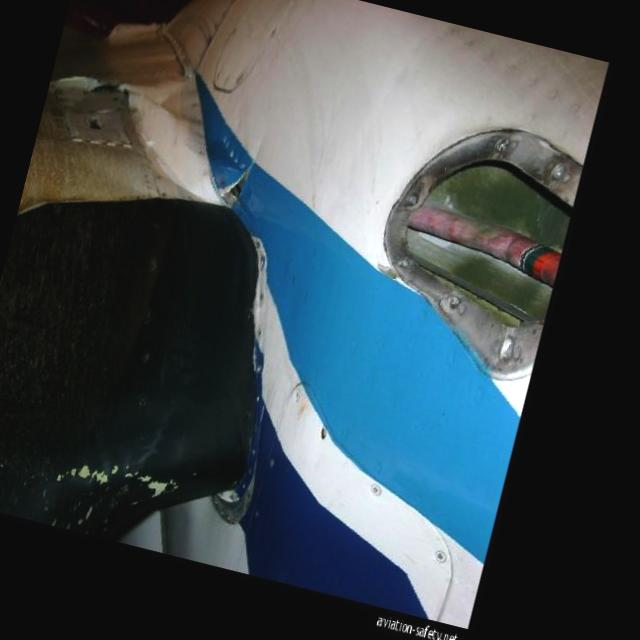crack: (214, 153, 260, 210)
